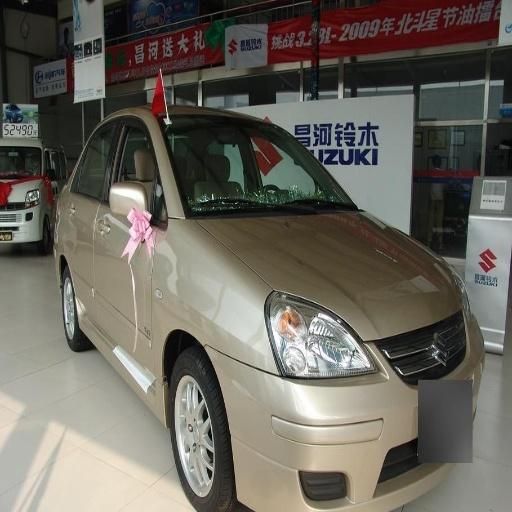front_bumper: (213, 316, 476, 511)
front_right_door: (101, 114, 158, 373)
front_right_light: (261, 293, 379, 381)
